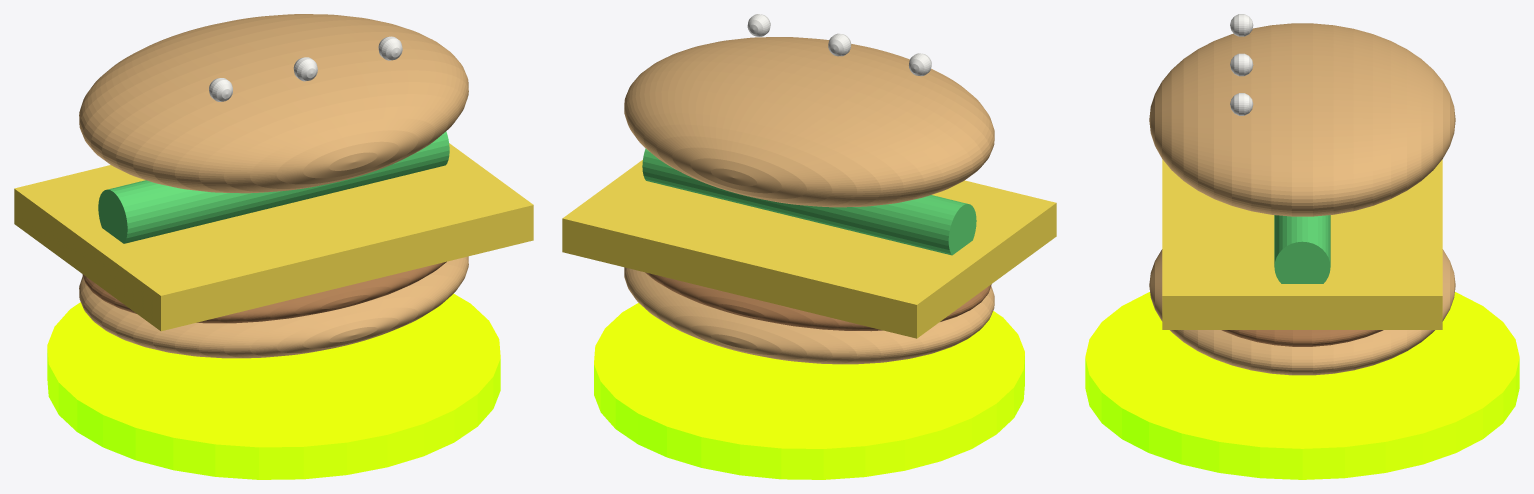
Rendered from food_burger.glb.
3 views of the same model, side by side, from view 1: azimuth 30°, elevation 25°; view 2: azimuth 150°, elevation 25°; view 3: azimuth 270°, elevation 25° (orthographic). The views are drawn at different scales.
Visible parts, largest first — view 1: 01_01_Popular_Food_Burger_ROOT_base, 01_01_Popular_Food_Burger_part_01, 01_01_Popular_Food_Burger_part_04, 01_01_Popular_Food_Burger_part_02, 01_01_Popular_Food_Burger_part_03, 01_01_Popular_Food_Burger_part_05; view 2: 01_01_Popular_Food_Burger_ROOT_base, 01_01_Popular_Food_Burger_part_01, 01_01_Popular_Food_Burger_part_04, 01_01_Popular_Food_Burger_part_02, 01_01_Popular_Food_Burger_part_03, 01_01_Popular_Food_Burger_part_05; view 3: 01_01_Popular_Food_Burger_ROOT_base, 01_01_Popular_Food_Burger_part_01, 01_01_Popular_Food_Burger_part_04, 01_01_Popular_Food_Burger_part_02, 01_01_Popular_Food_Burger_part_03, 01_01_Popular_Food_Burger_part_05.
Boxes of the visible parts, x1=… form: 01_01_Popular_Food_Burger_ROOT_base: x1=47, y1=293, x2=500, y2=479; 01_01_Popular_Food_Burger_part_01: x1=79, y1=14, x2=468, y2=193; 01_01_Popular_Food_Burger_part_04: x1=14, y1=143, x2=533, y2=331; 01_01_Popular_Food_Burger_part_02: x1=79, y1=256, x2=468, y2=358; 01_01_Popular_Food_Burger_part_03: x1=98, y1=131, x2=449, y2=243; 01_01_Popular_Food_Burger_part_05: x1=82, y1=261, x2=446, y2=323; 01_01_Popular_Food_Burger_ROOT_base: x1=594, y1=303, x2=1024, y2=479; 01_01_Popular_Food_Burger_part_01: x1=624, y1=37, x2=994, y2=207; 01_01_Popular_Food_Burger_part_04: x1=562, y1=160, x2=1056, y2=338; 01_01_Popular_Food_Burger_part_02: x1=624, y1=267, x2=994, y2=364; 01_01_Popular_Food_Burger_part_03: x1=642, y1=148, x2=976, y2=255; 01_01_Popular_Food_Burger_part_05: x1=645, y1=272, x2=991, y2=331; 01_01_Popular_Food_Burger_ROOT_base: x1=1085, y1=292, x2=1519, y2=479; 01_01_Popular_Food_Burger_part_01: x1=1149, y1=23, x2=1455, y2=216; 01_01_Popular_Food_Burger_part_04: x1=1162, y1=159, x2=1442, y2=329; 01_01_Popular_Food_Burger_part_02: x1=1149, y1=249, x2=1455, y2=375; 01_01_Popular_Food_Burger_part_03: x1=1274, y1=215, x2=1330, y2=283; 01_01_Popular_Food_Burger_part_05: x1=1221, y1=330, x2=1383, y2=346.
Bounding box in the file's own units: 0.76 × 0.644 × 0.76.
